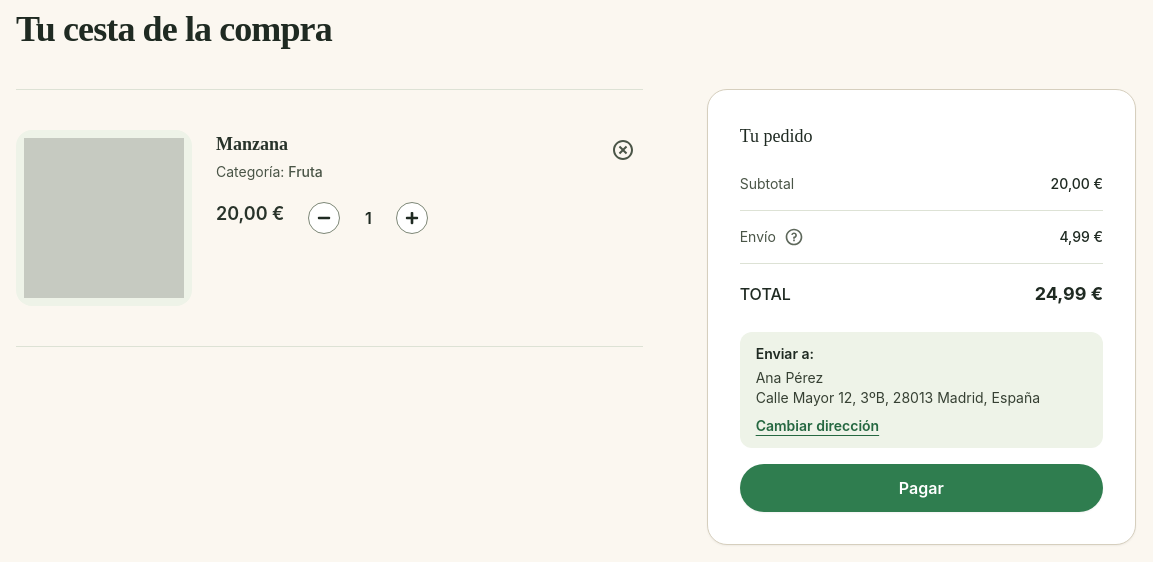
Test: ShopScreen summary › explains the fee and the free shipping limit in the tooltip
Hover over the button named "Más información sobre el envío" at (794, 237), box top-left (784, 227), bottom-right (804, 247)
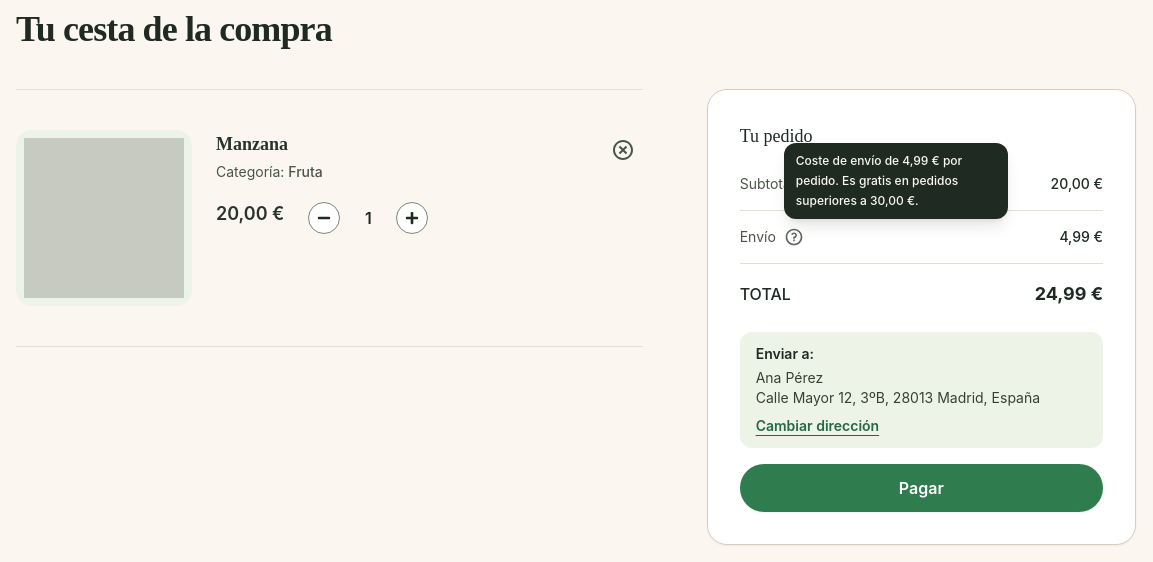
Expected: the tooltip reads "Coste de envío de 4,99 € por pedido. Es gratis en pedidos superiores a 30,00 €.", top-left (796, 153), bottom-right (962, 208)
